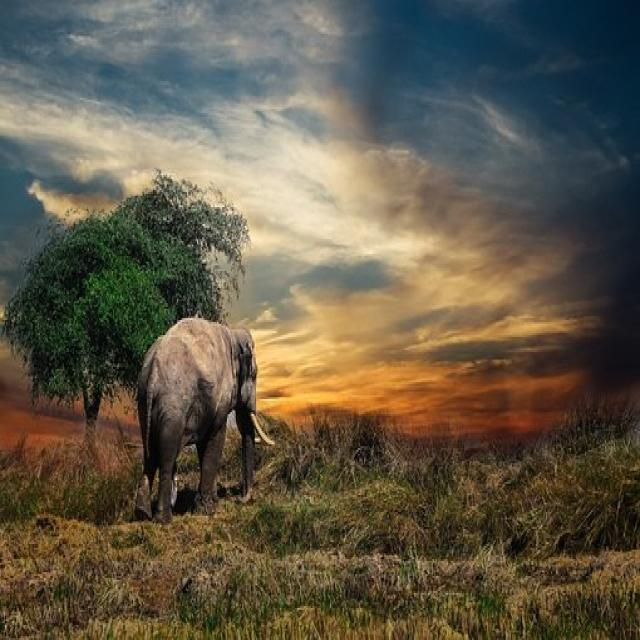Elephant: (124, 300, 310, 525)
